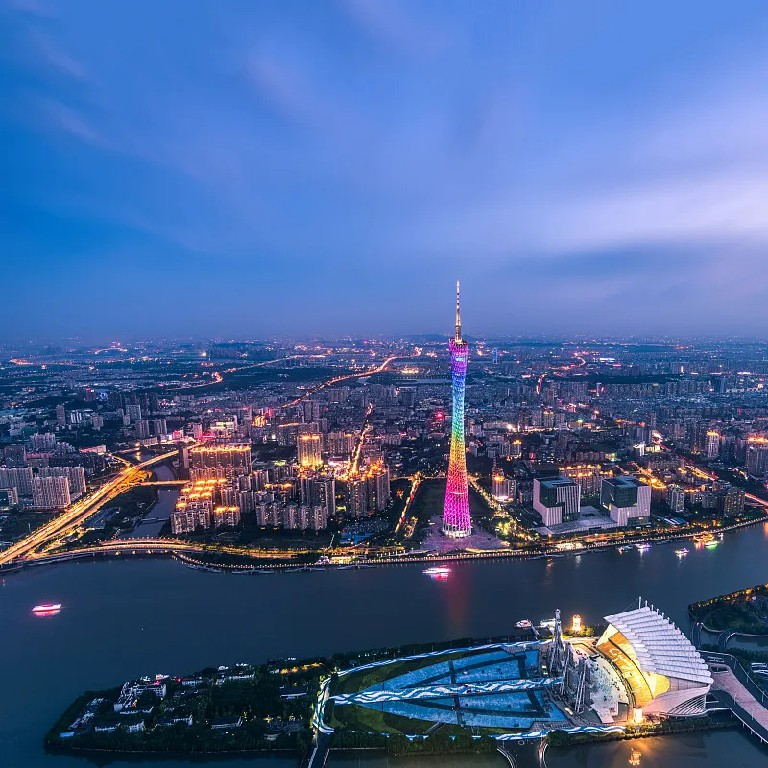Canton: (439, 281, 475, 538)
